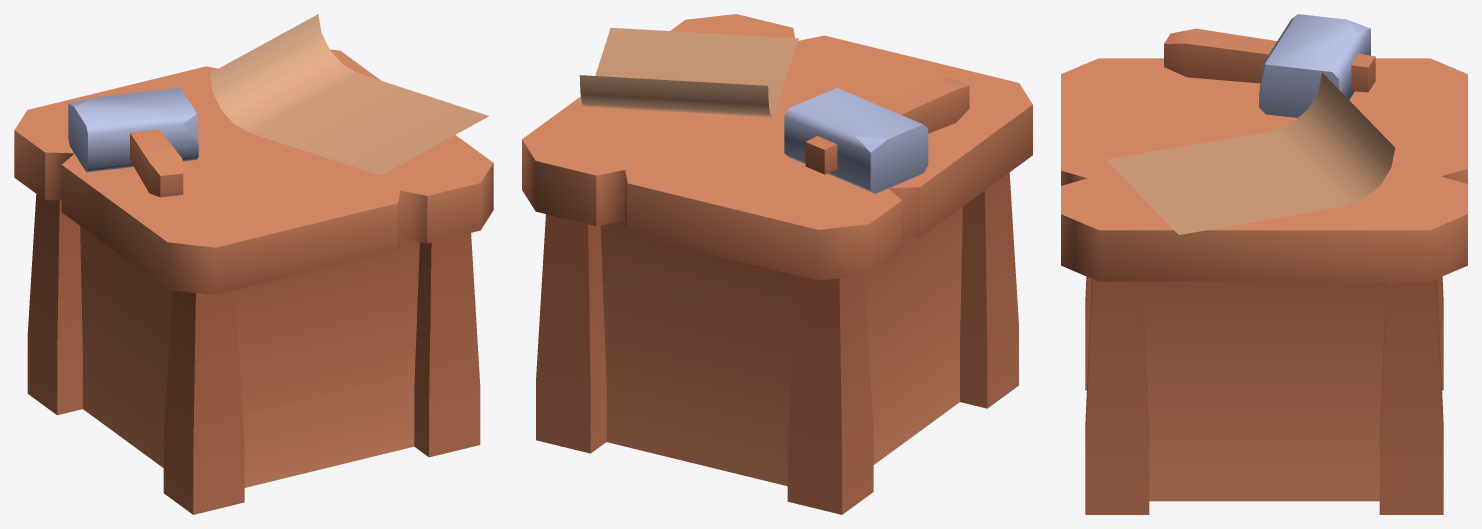
File: workbench.obj
The picture shows the model from 3 angles, left to right: view 1: azimuth 30°, elevation 25°; view 2: azimuth 150°, elevation 25°; view 3: azimuth 270°, elevation 25°; orthographic projection. The views are drawn at different scales.
Visible parts, largest first — view 1: workbench, paper, hammer; view 2: workbench, paper, hammer; view 3: workbench, paper, hammer.
Part boxes in pixels (x1,y1,x2,y2): workbench: (14, 49, 493, 514); paper: (209, 14, 489, 175); hammer: (68, 87, 198, 197); workbench: (522, 14, 1032, 514); paper: (579, 27, 798, 117); hammer: (784, 78, 969, 193); workbench: (1061, 58, 1467, 514); paper: (1106, 72, 1394, 234); hammer: (1164, 14, 1375, 117).
Bounding box in the file's own units: 0.3257 × 0.2866 × 0.2957.
Materials: 1 (1 with a texture image).
